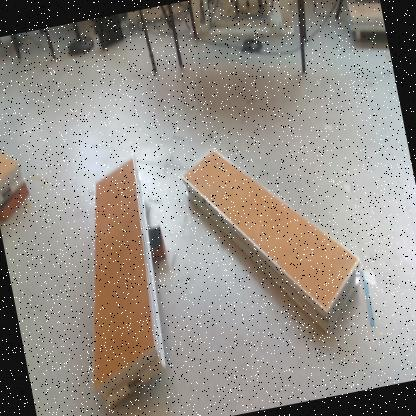Stairs: (183, 147, 361, 335), (95, 157, 168, 413), (1, 151, 27, 207)
